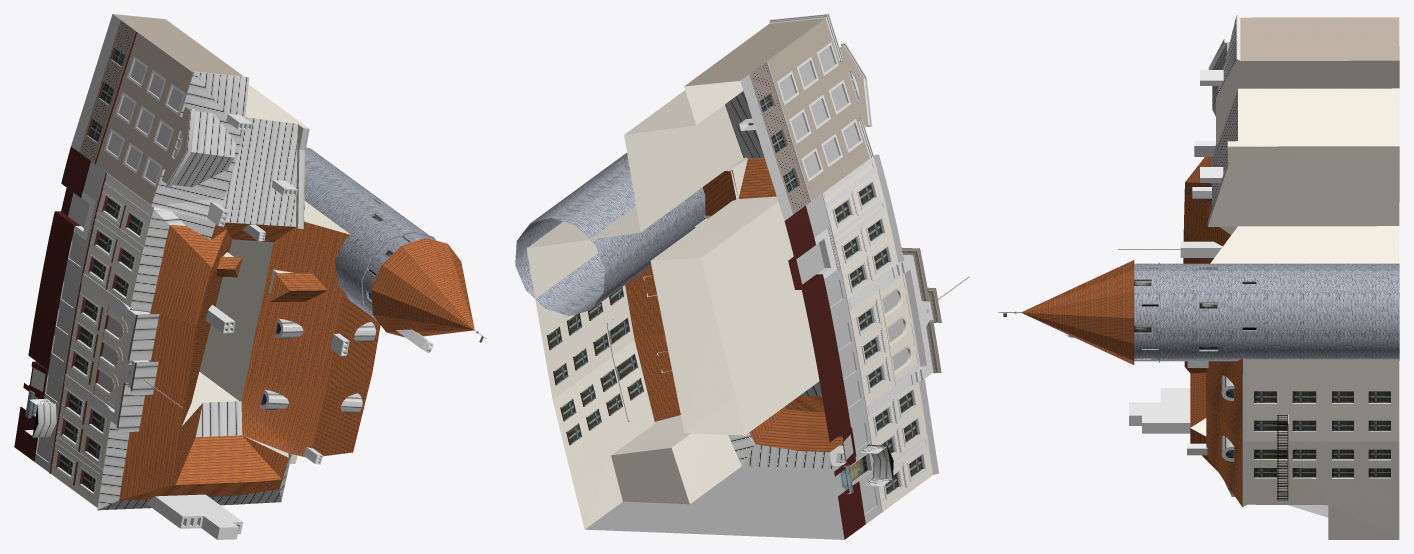
The model's file is Pikk-68_1.obj.
The picture shows the model from 3 angles, left to right: view 1: azimuth 30°, elevation 25°; view 2: azimuth 150°, elevation 25°; view 3: azimuth 270°, elevation 25°; orthographic projection. The views are drawn at different scales.
Parts seen in each view (by area): view 1: Pikk_68; view 2: Pikk_68, xxx; view 3: Pikk_68.
Boxes of the visible parts, bbox=[...] form: Pikk_68: bbox=[14, 14, 486, 539]; Pikk_68: bbox=[515, 14, 969, 539]; xxx: bbox=[585, 466, 844, 539]; Pikk_68: bbox=[998, 14, 1399, 539].
Bounding box in the file's own units: 31.15 × 41.92 × 33.54.
